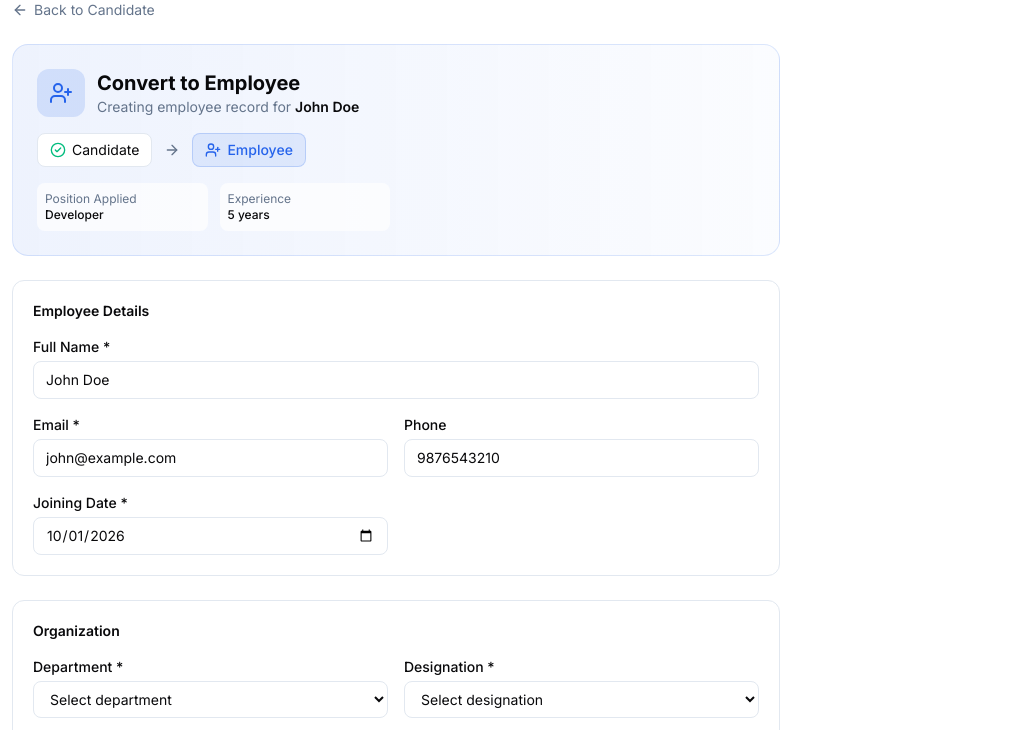
Scenario: Convert Candidate Page › should handle api error on submit
Expected: the text "John Doe" is shown, [295,98,359,115]
Step 1. Select "Engineering" in the dropdown below "Department *" → (210, 700), box [33,681,388,718]
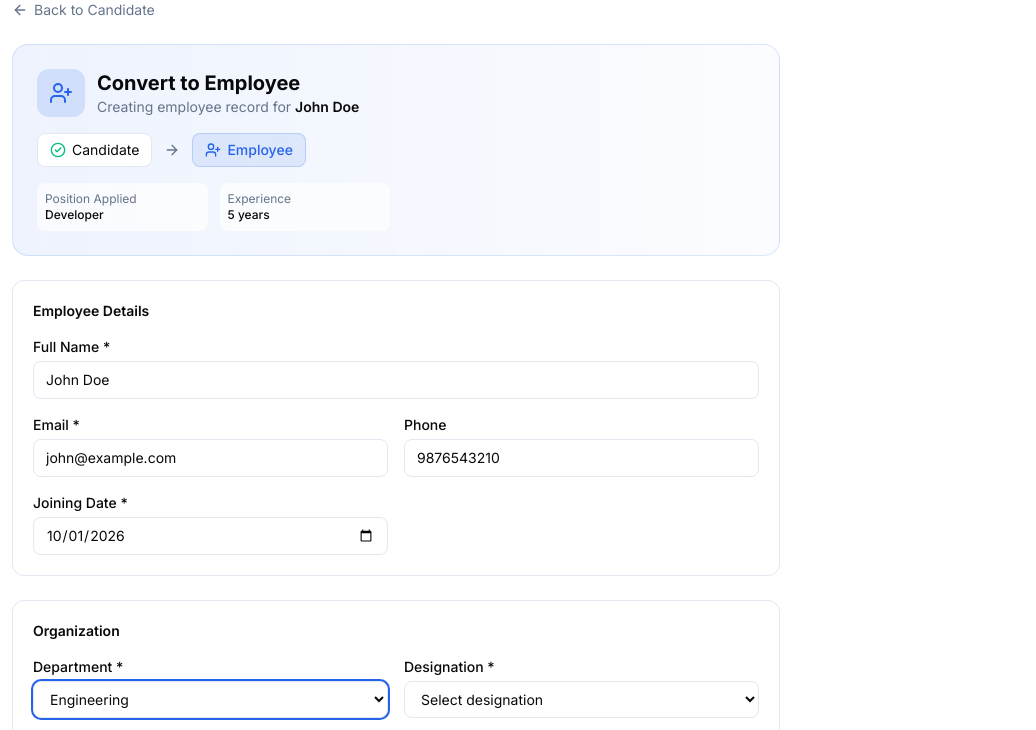
Step 2. Select "Software Engineer" in the dropdown below "Designation *" → (582, 700), box [404,681,759,718]
(page scrolled)
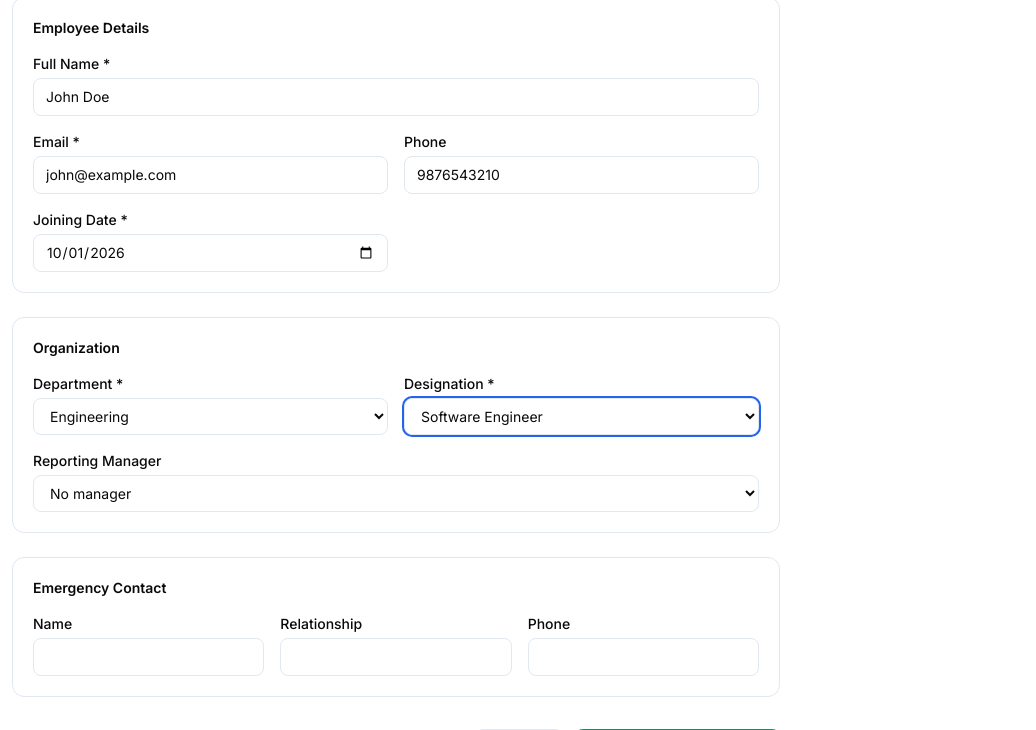
Step 3. Submit the form named "Convert to Employee"
(page scrolled)
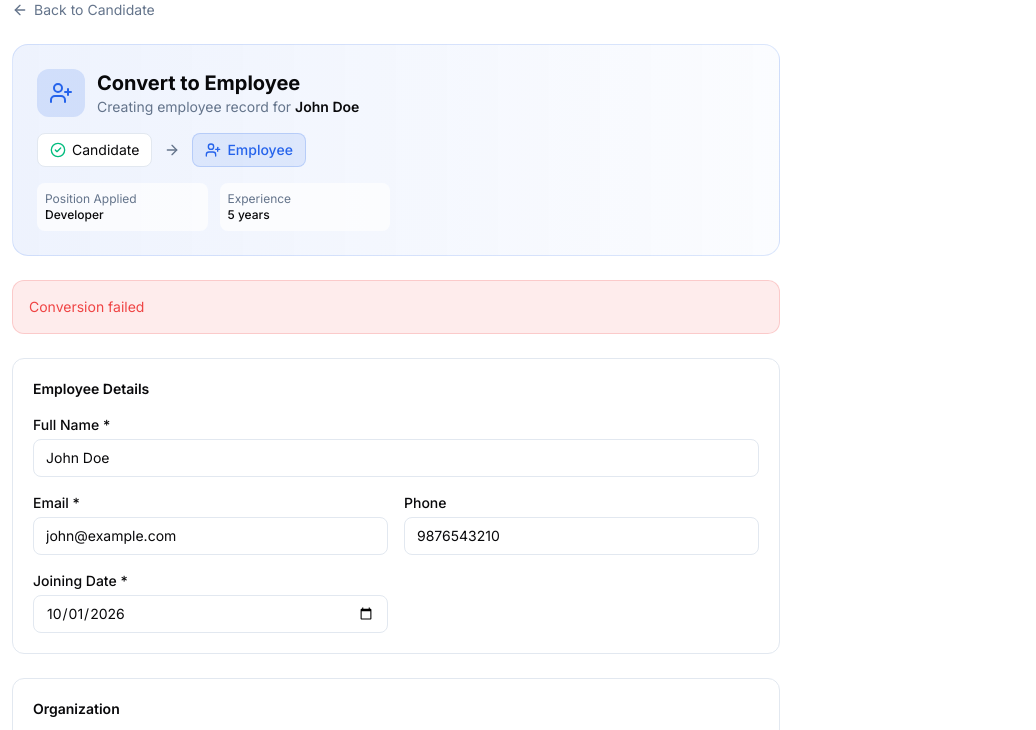
Now the text "Conversion failed" is shown, box [12,280,780,334]
